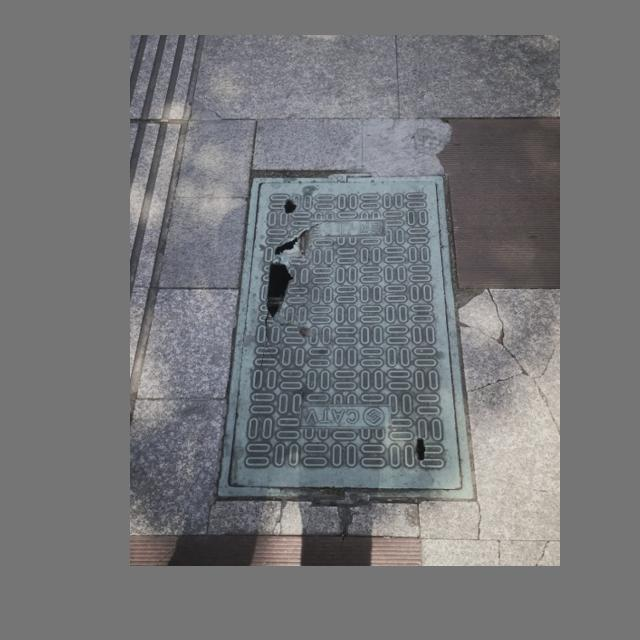broke: (215, 173, 472, 499)
